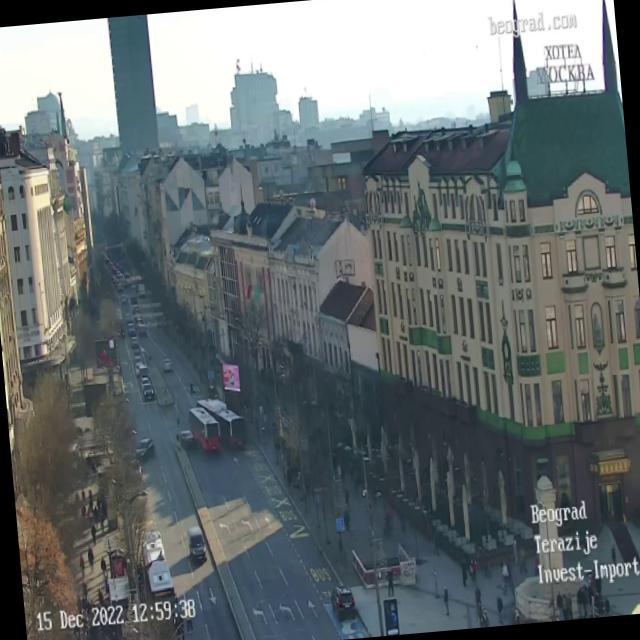bus: (138, 529, 180, 616), (207, 393, 244, 449), (186, 400, 222, 456)
car: (329, 583, 356, 621), (186, 526, 206, 564), (135, 438, 151, 460), (179, 430, 196, 450), (134, 318, 148, 338), (133, 344, 145, 365), (142, 380, 154, 399), (160, 354, 173, 371), (138, 362, 150, 380), (126, 323, 136, 338)
